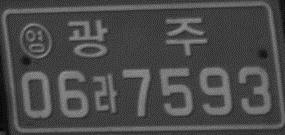0: (19, 70, 52, 119)
3: (237, 65, 272, 115)
5: (158, 67, 194, 118)
6: (56, 69, 89, 119)
7: (121, 68, 151, 116)
9: (198, 66, 232, 115)
광주_D: (65, 16, 208, 57)
라: (91, 73, 120, 115)
영: (19, 21, 53, 60)
